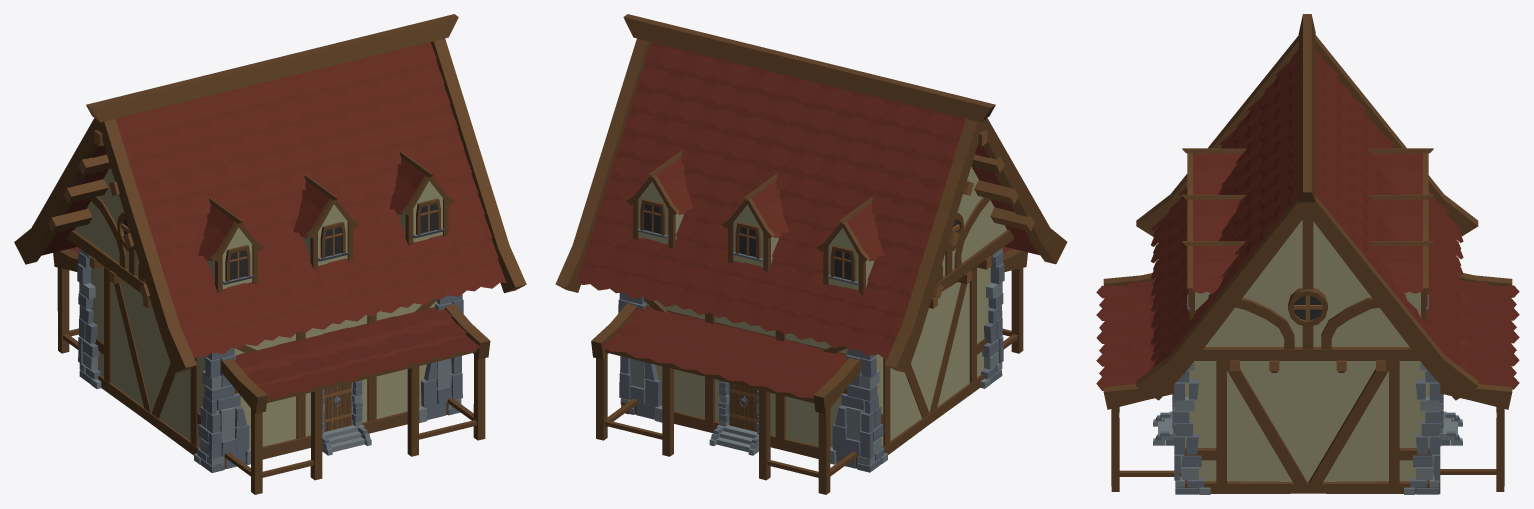
File: q-fantasy-inn-x3zcgn3jr4.glb
3 views of the same model, side by side, from view 1: azimuth 30°, elevation 25°; view 2: azimuth 150°, elevation 25°; view 3: azimuth 270°, elevation 25° (orthographic).
Visible parts, largest first — view 1: Inn; view 2: Inn; view 3: Inn.
Boxes of the visible parts, <box> form: Inn: <box>14,14,526,494</box>; Inn: <box>555,14,1067,494</box>; Inn: <box>1096,14,1519,494</box>.
Size of the model in its own units: 4.03 by 3.49 by 4.02.
